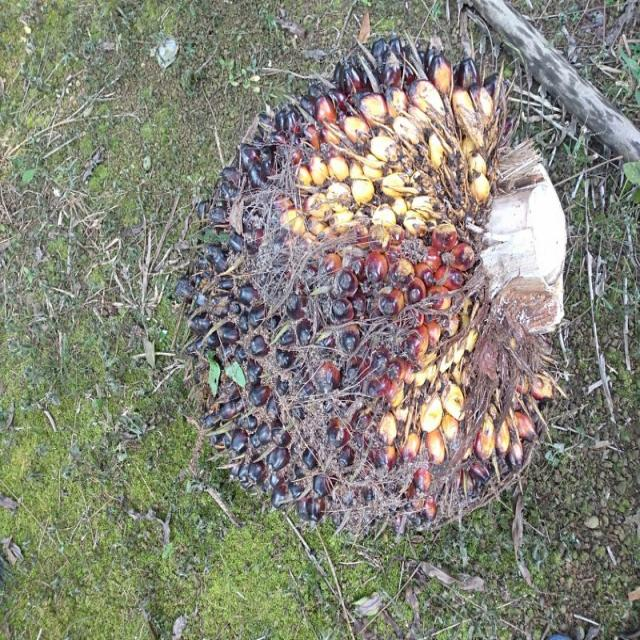fraksi 00: (177, 34, 547, 540)
